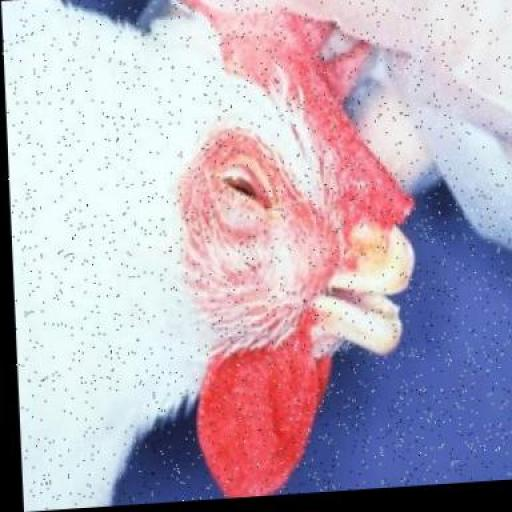disease: (194, 142, 293, 259)
